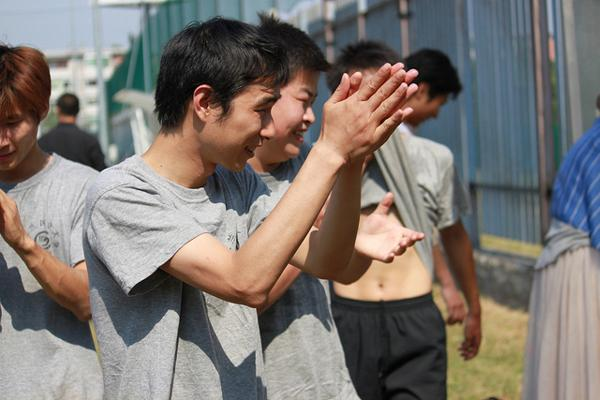person: (82, 18, 419, 400)
